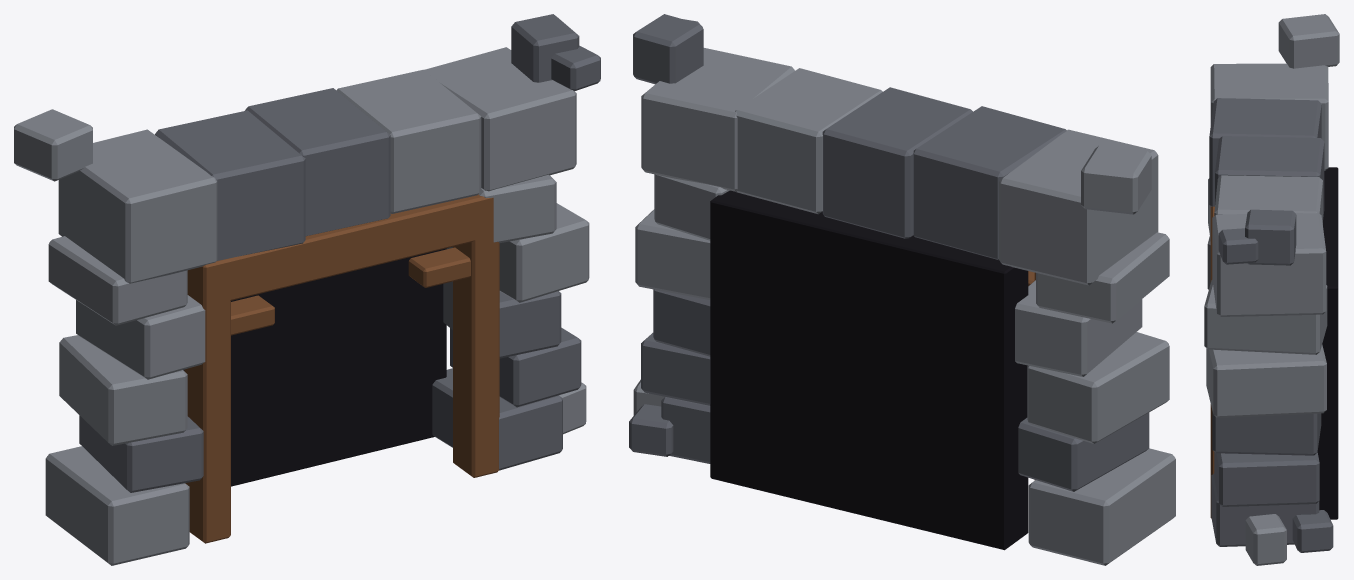
File: MinePortal.fbx
The picture shows the model from 3 angles, left to right: view 1: azimuth 30°, elevation 25°; view 2: azimuth 150°, elevation 25°; view 3: azimuth 270°, elevation 25°; orthographic projection. The views are drawn at different scales.
Parts seen in each view (by area): view 1: MinePortal_Body; view 2: MinePortal_Body; view 3: MinePortal_Body.
Boxes of the visible parts, <box> form: MinePortal_Body: <box>14,14,600,565</box>; MinePortal_Body: <box>629,14,1175,565</box>; MinePortal_Body: <box>1204,14,1339,565</box>.
Size of the model in its own units: 2.87 by 2.07 by 0.7537.
